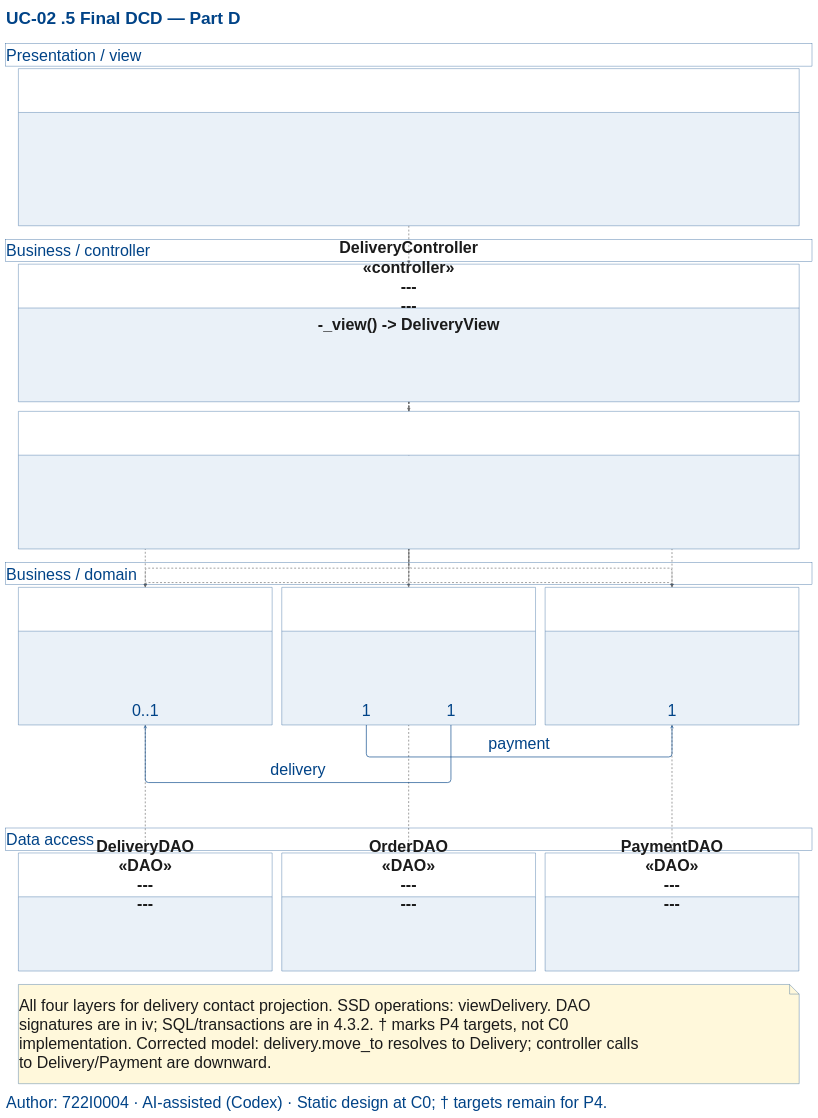
Image size: 818x1118. Some labels were removed from this diagram. The box of each missing label's shape, as (x1, y1, x2, y2) in pixels:
Delivery «entity» --- +state: DeliveryState ---: (18, 587, 272, 725)
delivery «view» --- --- +detail() * +board() *: (18, 68, 799, 226)
DeliveryView «value» --- --- +cash_to_collect: int: (18, 411, 799, 549)
Order «entity» --- +state: OrderState ---: (281, 587, 536, 725)
Payment «entity» --- +state: PaymentState ---: (545, 587, 799, 725)
